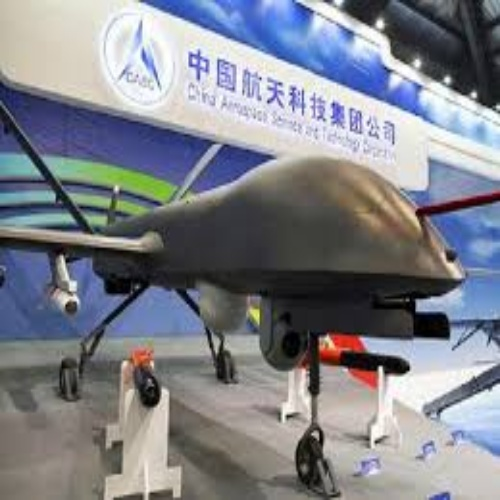uav553: (2, 100, 470, 494)
